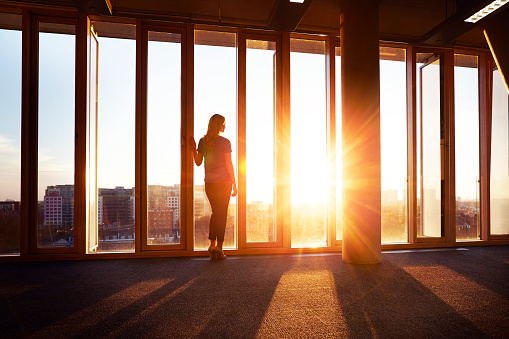em pe: (197, 107, 233, 250)
